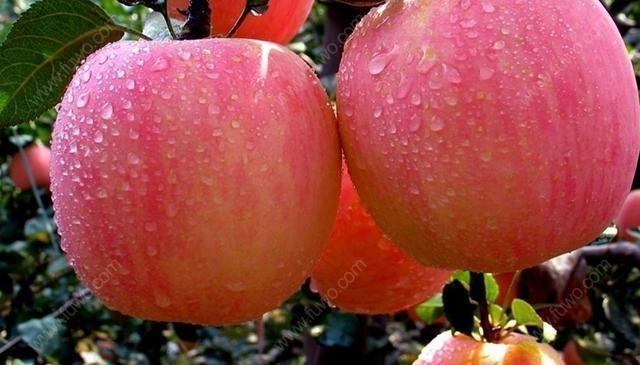apple: (334, 1, 640, 274), (52, 37, 338, 324)
